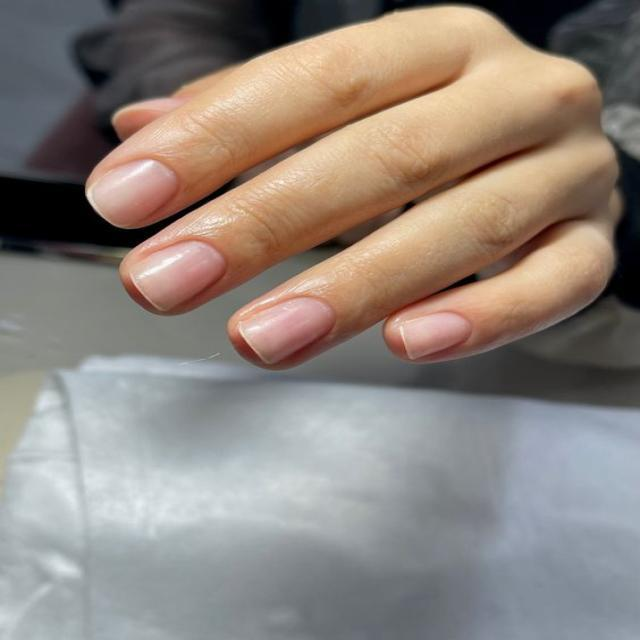Fingernail: (131, 241, 225, 313), (238, 298, 335, 366), (88, 159, 178, 230), (401, 313, 471, 360)
